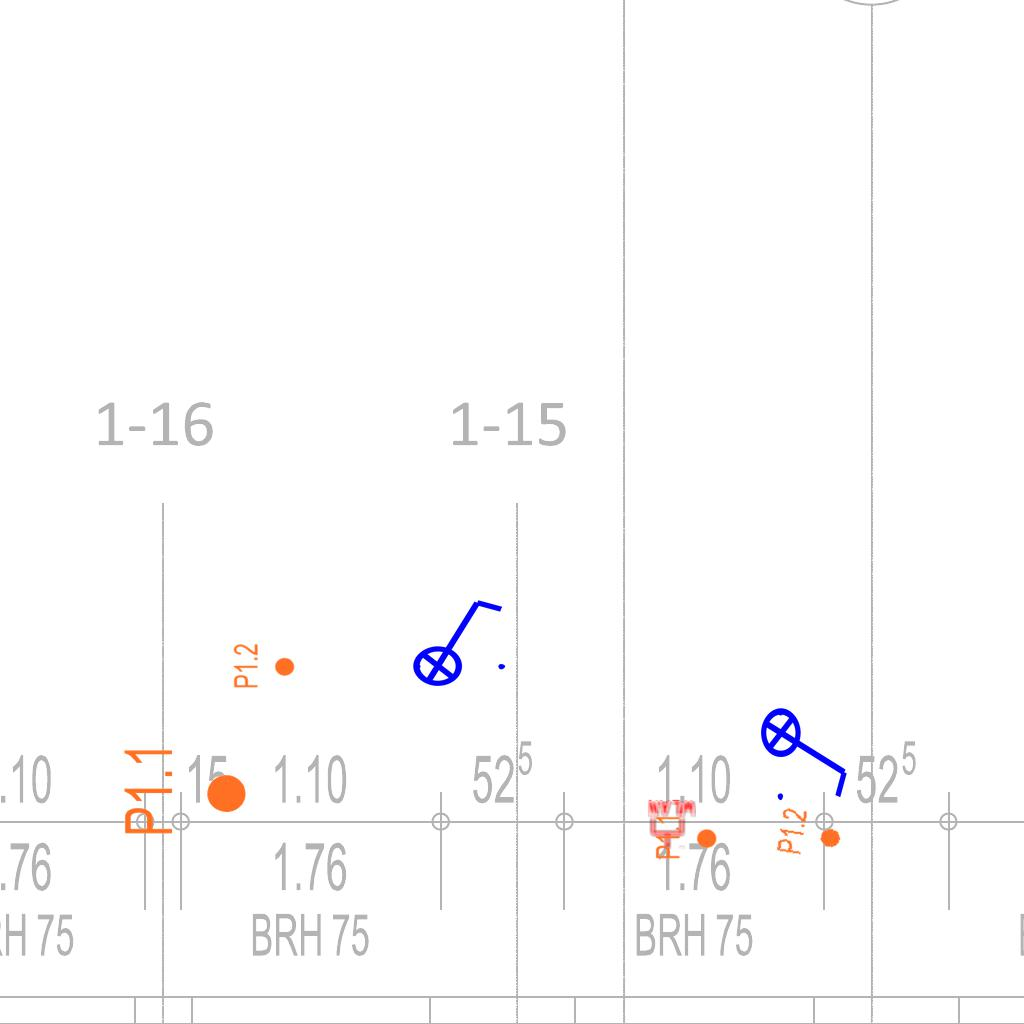Ausschalter_beleuchtet: (399, 592, 511, 688), (759, 694, 855, 806)
Downlight_LED_Einbauleuchten_Flur: (121, 744, 249, 837), (774, 806, 846, 862), (232, 643, 296, 689), (654, 814, 718, 860)
WLAN: (646, 799, 698, 851)
